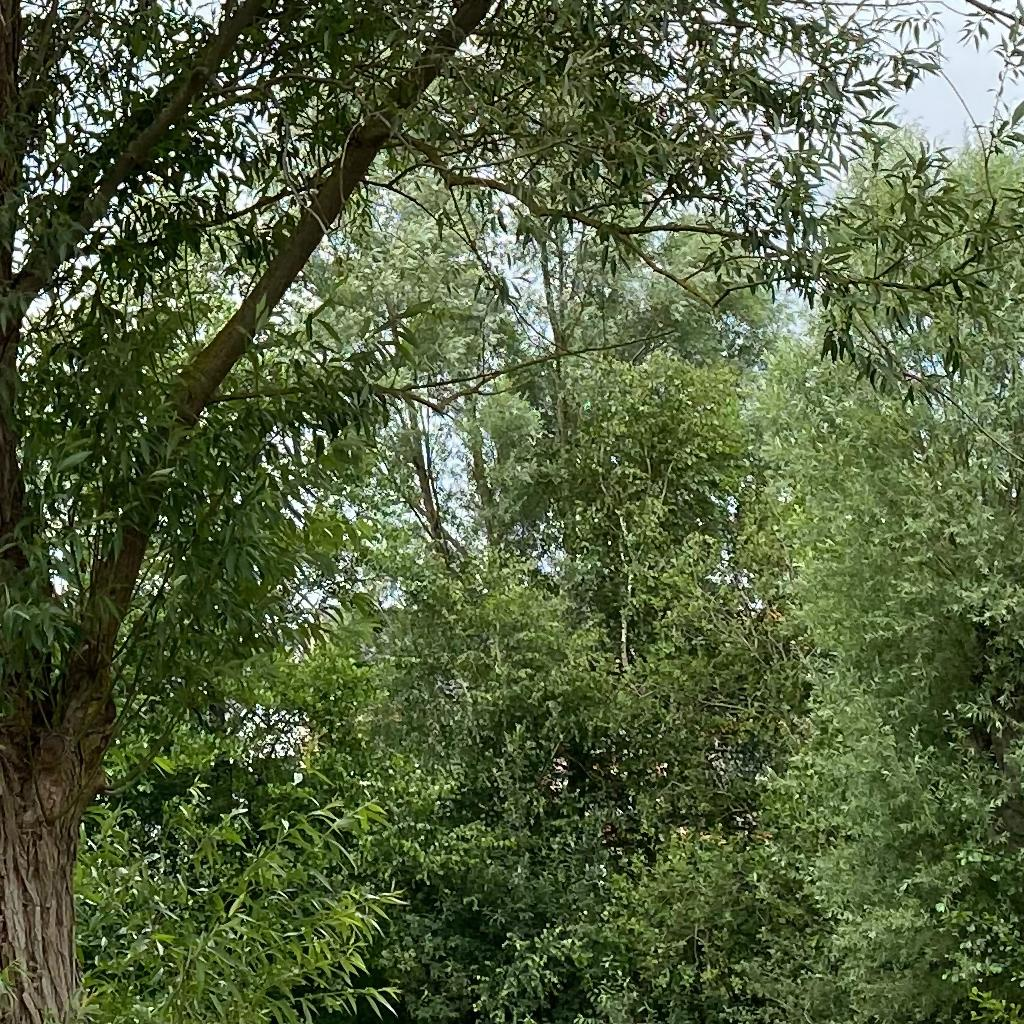tree: (1, 1, 1023, 1023), (90, 152, 803, 678), (753, 110, 1024, 1024)
